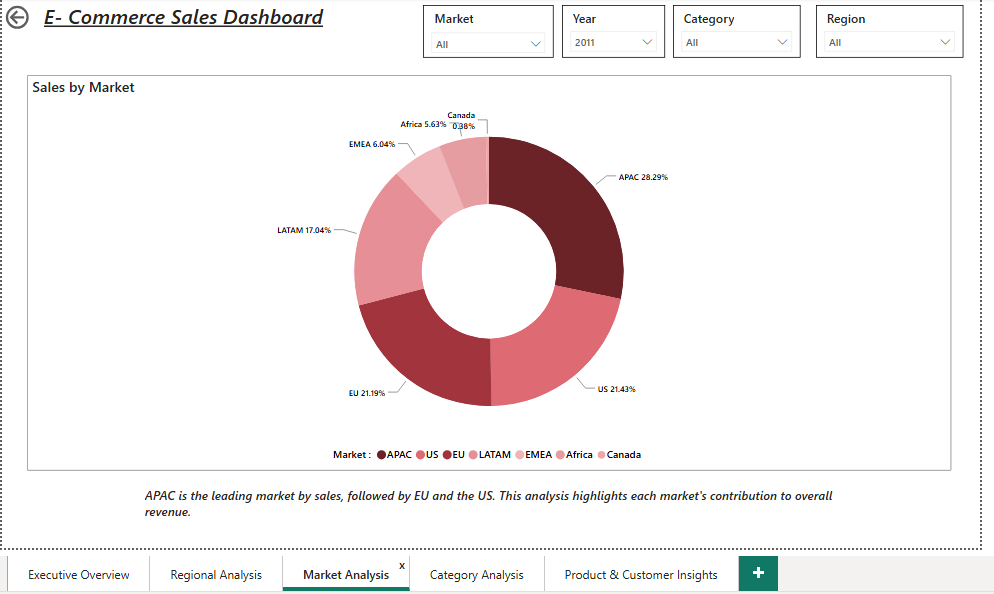

The dashboard page shown, as its layout file describes it:
{"tool":"powerbi","page":{"name":"Market Analysis","canvas":[1280,720],"ordinal":2},"visuals":[{"type":"slicer","fields":{"Values":["E-Commerce.market"]},"box":[551.5,8.6,171.4,69.1],"z":0},{"type":"slicer","fields":{"Values":["E-Commerce.year"]},"box":[733,8.6,135.4,69.1],"z":1000},{"type":"slicer","fields":{"Values":["E-Commerce.category"]},"box":[878.4,8.6,167,69.1],"z":2000},{"type":"slicer","fields":{"Values":["E-Commerce.region"]},"box":[1065.6,8.6,193,69.1],"z":3000},{"type":"donutChart","title":"Sales by Market","fields":{"Category":["E-Commerce.market"],"Y":["E-Commerce.Total_Sales"]},"box":[33.1,100.8,1209.6,518.4],"z":4000},{"type":"textbox","box":[181.4,635,941.8,67.7],"z":5000},{"type":"textbox","box":[50,0,475,50],"z":6000},{"type":"actionButton","box":[0,5,100,40],"z":7000}]}

Visuals, with their boxes on the page's 1280x720 design canvas (x1, y1, x2, y2). These are canvas units, not pixel positions in the 994x594 screenshot, which may show the page scaled, cropped or inside an application window:
slicer - E-Commerce.market: (552, 9, 723, 78)
slicer - E-Commerce.year: (733, 9, 868, 78)
slicer - E-Commerce.category: (878, 9, 1045, 78)
slicer - E-Commerce.region: (1066, 9, 1259, 78)
"Sales by Market" donutChart: (33, 101, 1243, 619)
textbox: (181, 635, 1123, 703)
textbox: (50, 0, 525, 50)
actionButton: (0, 5, 100, 45)
